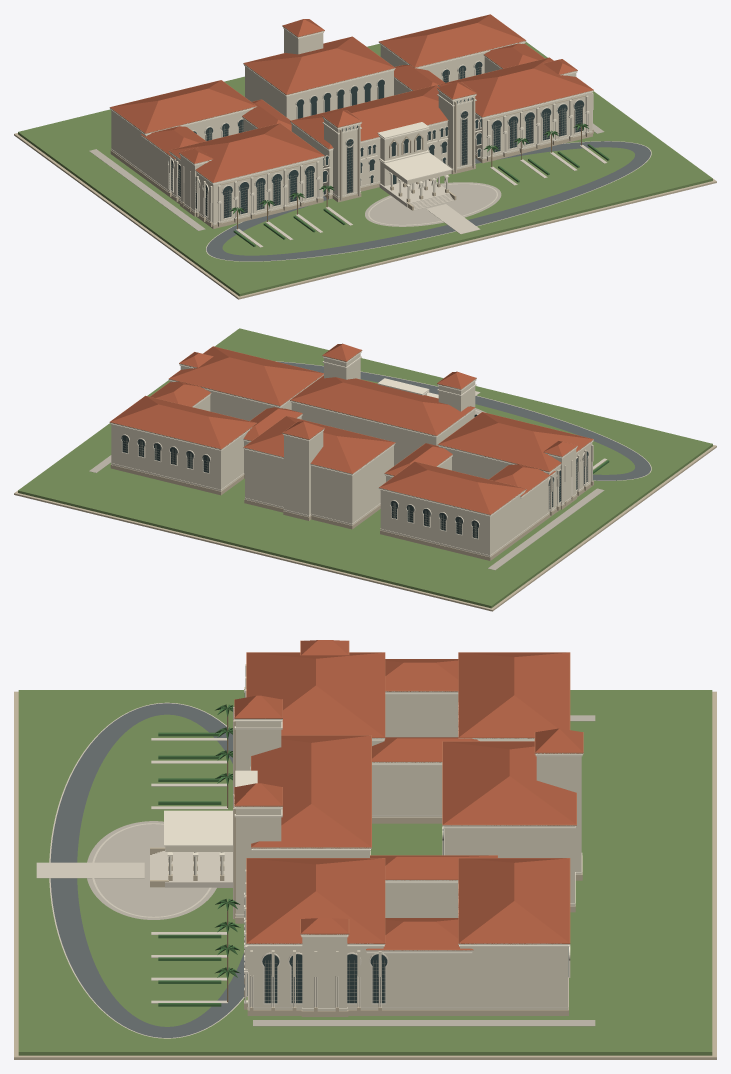
File: Bangunan_SUK_Exterior.glb
3 views of the same model, one above another, from view 1: azimuth 30°, elevation 25°; view 2: azimuth 150°, elevation 25°; view 3: azimuth 270°, elevation 25° (orthographic). The views are drawn at different scales.
Visible parts, largest first — view 1: SUK_Ground, SUK_Curved_Drive, SUK_Rear_Hall_Roof, SUK_Left_Wing_Roof, SUK_Right_Wing_Roof, SUK_Left_RearWing_Roof, SUK_Right_RearWing_Roof, SUK_Main_Body_Roof, SUK_Plaza, SUK_Rear_Hall, SUK_Site_Plinth, SUK_Left_Wing (+36 smaller); view 2: SUK_Ground, SUK_Rear_Hall, SUK_Main_Body_Roof, SUK_Left_RearWing, SUK_Right_Wing_Roof, SUK_Right_RearWing, SUK_Left_Wing_Roof, SUK_Left_RearWing_Roof, SUK_Right_RearWing_Roof, SUK_Rear_Hall_Roof, SUK_Site_Plinth, SUK_Curved_Drive (+23 smaller); view 3: SUK_Ground, SUK_Main_Body_Roof, SUK_Curved_Drive, SUK_Right_Wing_Roof, SUK_Left_Wing_Roof, SUK_Right_RearWing_Roof, SUK_Rear_Hall_Roof, SUK_Left_RearWing_Roof, SUK_Site_Plinth, SUK_Right_RearWing, SUK_Plaza, SUK_Right_Connector (+30 smaller).
Boxes of the visible parts, left/top/right/bottom form: SUK_Ground: left=18, top=41, right=712, bottom=296; SUK_Curved_Drive: left=206, top=141, right=650, bottom=261; SUK_Rear_Hall_Roof: left=244, top=36, right=394, bottom=94; SUK_Left_Wing_Roof: left=169, top=123, right=323, bottom=182; SUK_Right_Wing_Roof: left=438, top=57, right=592, bottom=116; SUK_Left_RearWing_Roof: left=110, top=80, right=255, bottom=132; SUK_Right_RearWing_Roof: left=379, top=14, right=525, bottom=67; SUK_Main_Body_Roof: left=291, top=85, right=447, bottom=148; SUK_Plaza: left=365, top=182, right=501, bottom=226; SUK_Rear_Hall: left=245, top=66, right=393, bottom=120; SUK_Site_Plinth: left=14, top=133, right=716, bottom=299; SUK_Left_Wing: left=170, top=154, right=322, bottom=224; SUK_Ground: left=18, top=328, right=712, bottom=608; SUK_Rear_Hall: left=245, top=446, right=393, bottom=525; SUK_Main_Body_Roof: left=291, top=375, right=474, bottom=435; SUK_Left_RearWing: left=380, top=489, right=524, bottom=556; SUK_Right_Wing_Roof: left=169, top=346, right=323, bottom=405; SUK_Right_RearWing: left=111, top=424, right=247, bottom=491; SUK_Left_Wing_Roof: left=439, top=412, right=592, bottom=471; SUK_Left_RearWing_Roof: left=379, top=461, right=525, bottom=514; SUK_Right_RearWing_Roof: left=110, top=396, right=256, bottom=448; SUK_Rear_Hall_Roof: left=244, top=416, right=394, bottom=473; SUK_Site_Plinth: left=14, top=445, right=716, bottom=611; SUK_Curved_Drive: left=277, top=361, right=650, bottom=480; SUK_Ground: left=18, top=690, right=712, bottom=1055; SUK_Main_Body_Roof: left=251, top=735, right=371, bottom=846; SUK_Curved_Drive: left=50, top=703, right=244, bottom=1037; SUK_Right_Wing_Roof: left=247, top=858, right=384, bottom=943; SUK_Left_Wing_Roof: left=247, top=652, right=384, bottom=737; SUK_Right_RearWing_Roof: left=458, top=858, right=569, bottom=943; SUK_Rear_Hall_Roof: left=443, top=741, right=576, bottom=824; SUK_Left_RearWing_Roof: left=458, top=652, right=569, bottom=737; SUK_Site_Plinth: left=14, top=691, right=716, bottom=1059; SUK_Right_RearWing: left=460, top=945, right=568, bottom=1009; SUK_Plaza: left=87, top=821, right=216, bottom=919; SUK_Right_Connector: left=367, top=951, right=471, bottom=1009.
Bounding box in the file's own units: 192 × 36.4 × 156.
